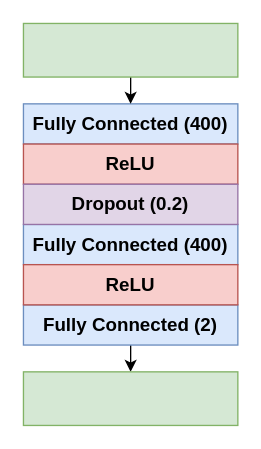
Some shapes in this 261 by 449 pixel diagram are drawn without their labels. Each missing label, with the centre of its shape:
"Input (4,)" belongs at point (130, 49).
"Output (2,)" belongs at point (130, 398).
